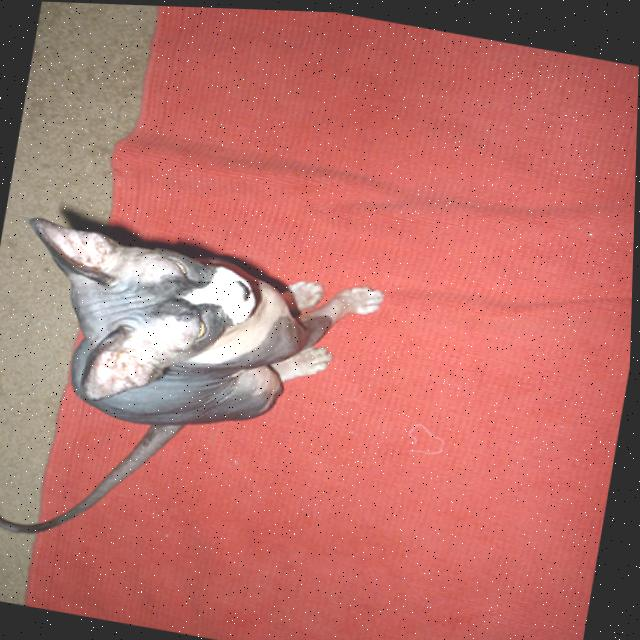Sphynx: (0, 207, 399, 592)
